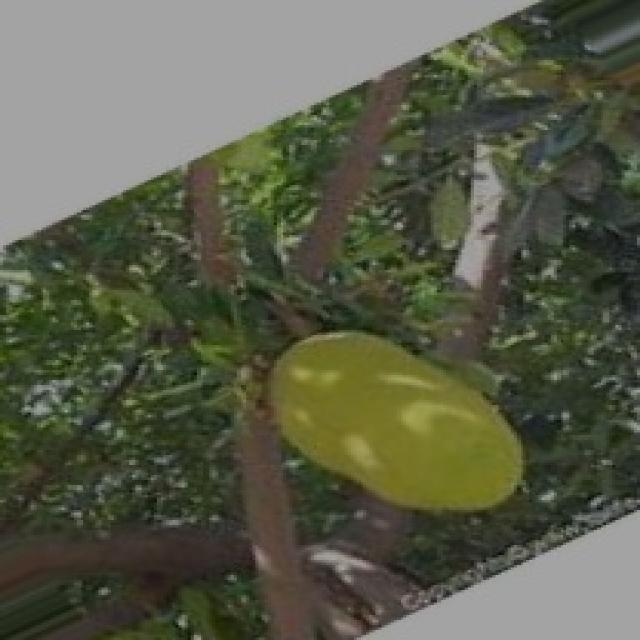Fruit: (231, 292, 554, 550)
